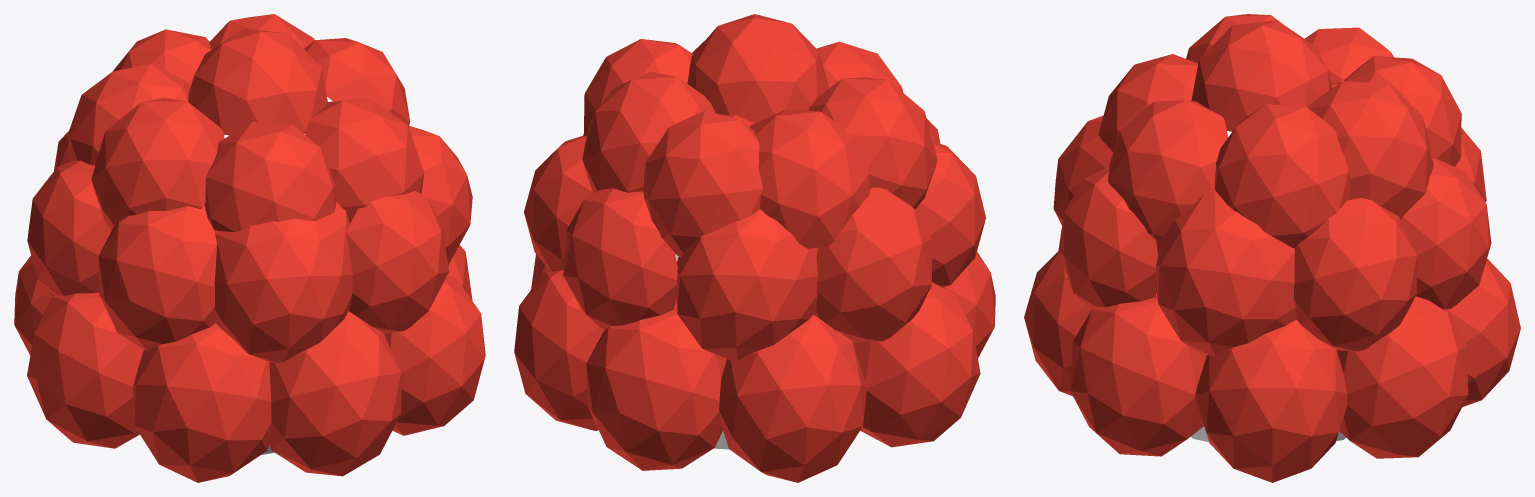
The model's file is raspberry-harvest.glb.
3 views of the same model, side by side, from view 1: azimuth 30°, elevation 25°; view 2: azimuth 150°, elevation 25°; view 3: azimuth 270°, elevation 25° (orthographic).
Visible parts, largest first — view 1: Icosphere.001_Icosphere.003; view 2: Icosphere.001_Icosphere.003; view 3: Icosphere.001_Icosphere.003.
Part boxes in pixels (x1,y1,x2,y2): Icosphere.001_Icosphere.003: (14,14,485,482); Icosphere.001_Icosphere.003: (514,14,995,482); Icosphere.001_Icosphere.003: (1024,14,1520,482).
Size of the model in its own units: 1 by 0.8588 by 0.9987.
